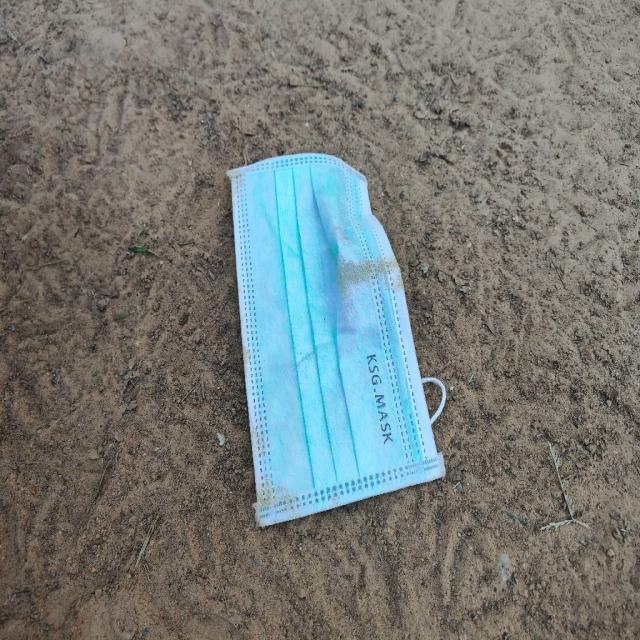non-organic waste: (226, 152, 447, 528)
